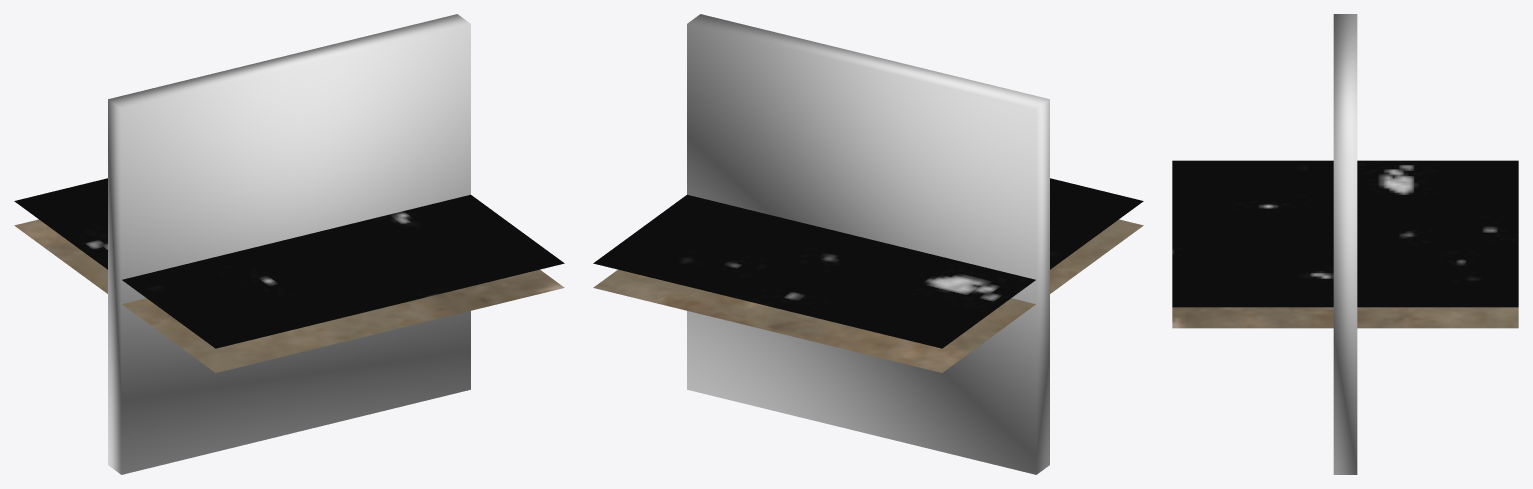
File: SM_Floor_Ceiling_Large.fbx
The picture shows the model from 3 angles, left to right: view 1: azimuth 30°, elevation 25°; view 2: azimuth 150°, elevation 25°; view 3: azimuth 270°, elevation 25°; orthographic projection. The views are drawn at different scales.
Visible parts, largest first — view 1: SM_Floor_Ceiling_Large_ConvexHulls, SM_Floor_Ceiling_Large; view 2: SM_Floor_Ceiling_Large_ConvexHulls, SM_Floor_Ceiling_Large; view 3: SM_Floor_Ceiling_Large, SM_Floor_Ceiling_Large_ConvexHulls.
Boxes of the visible parts, <box> form: SM_Floor_Ceiling_Large_ConvexHulls: <box>108,14,470,474</box>; SM_Floor_Ceiling_Large: <box>14,178,564,372</box>; SM_Floor_Ceiling_Large_ConvexHulls: <box>687,14,1049,474</box>; SM_Floor_Ceiling_Large: <box>593,178,1143,372</box>; SM_Floor_Ceiling_Large: <box>1172,160,1518,328</box>; SM_Floor_Ceiling_Large_ConvexHulls: <box>1333,14,1357,474</box>.
Size of the model in its own units: 3 by 3 by 3.
